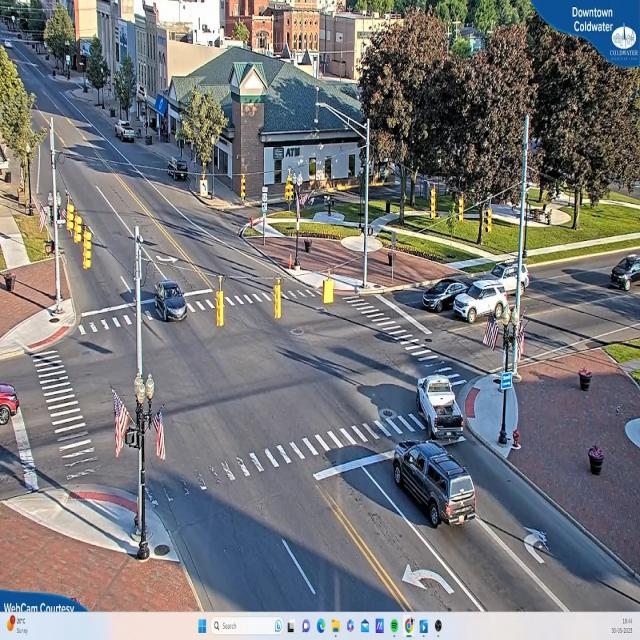car: (392, 442, 478, 529), (419, 373, 465, 438), (453, 287, 509, 324), (481, 264, 531, 300), (152, 280, 191, 326), (422, 280, 475, 312), (609, 256, 640, 292), (1, 384, 22, 424), (117, 122, 137, 144)
